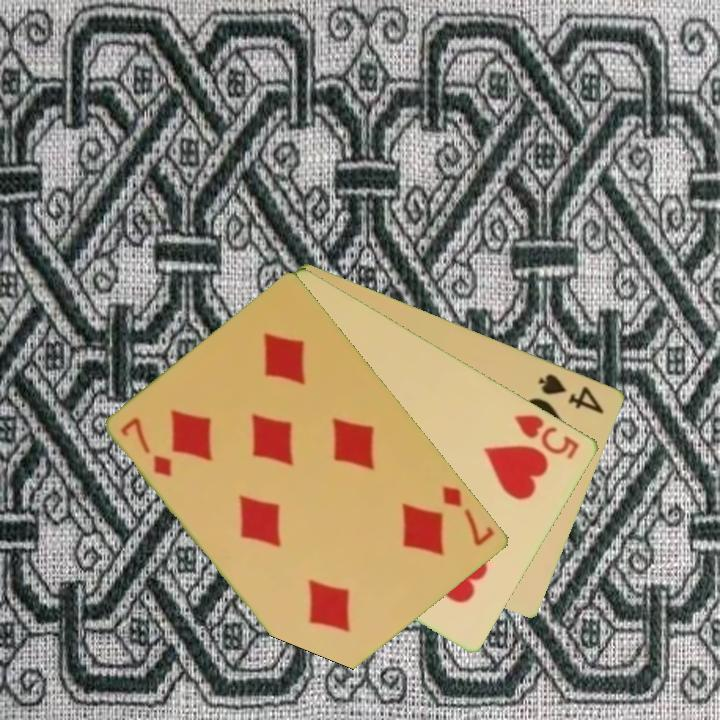4s: (535, 370, 607, 417)
5h: (510, 410, 583, 462)
7d: (439, 482, 498, 550), (117, 414, 176, 480)
